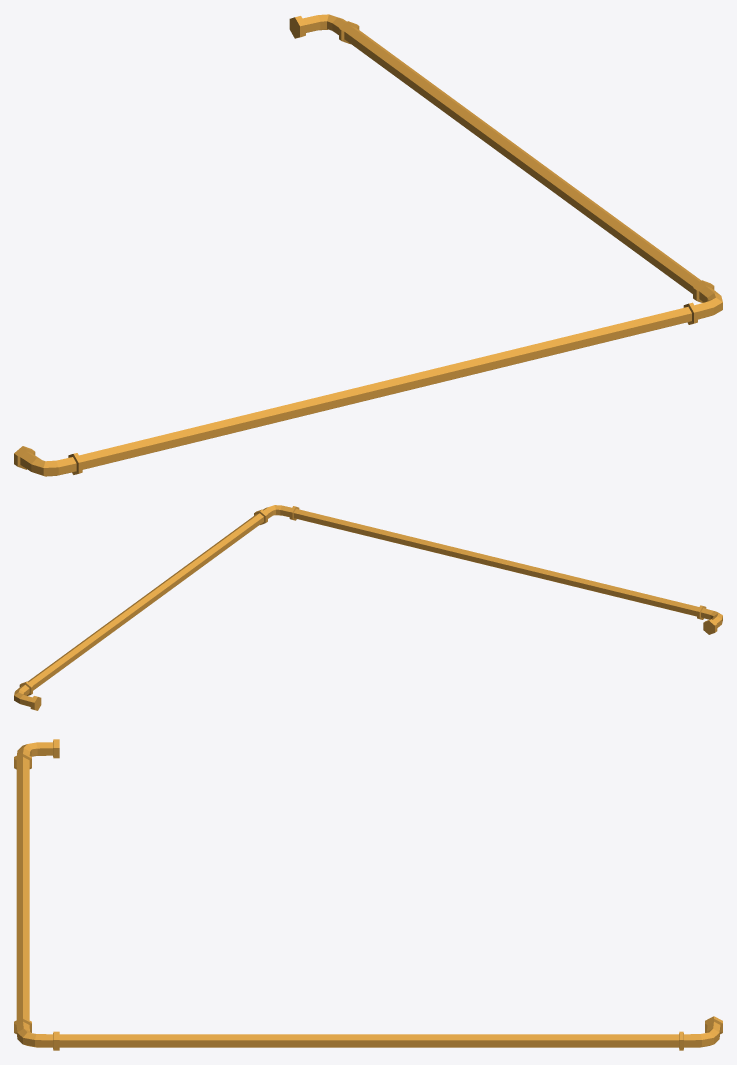
The model's file is SM_Ladder_Sliding_Rail_Corner_Outer.fbx.
3 views of the same model, one above another, from view 1: azimuth 30°, elevation 25°; view 2: azimuth 150°, elevation 25°; view 3: azimuth 270°, elevation 25° (orthographic). The views are drawn at different scales.
Parts seen in each view (by area): view 1: ladder-sliding-rail-corner-outer; view 2: ladder-sliding-rail-corner-outer; view 3: ladder-sliding-rail-corner-outer.
Part boxes in pixels (box(x1,y1,x2,y2)): ladder-sliding-rail-corner-outer: box(14, 14, 722, 476); ladder-sliding-rail-corner-outer: box(14, 505, 722, 710); ladder-sliding-rail-corner-outer: box(14, 739, 722, 1050).
Bounding box in the file's own units: 1.55 × 0.0458 × 1.55.
